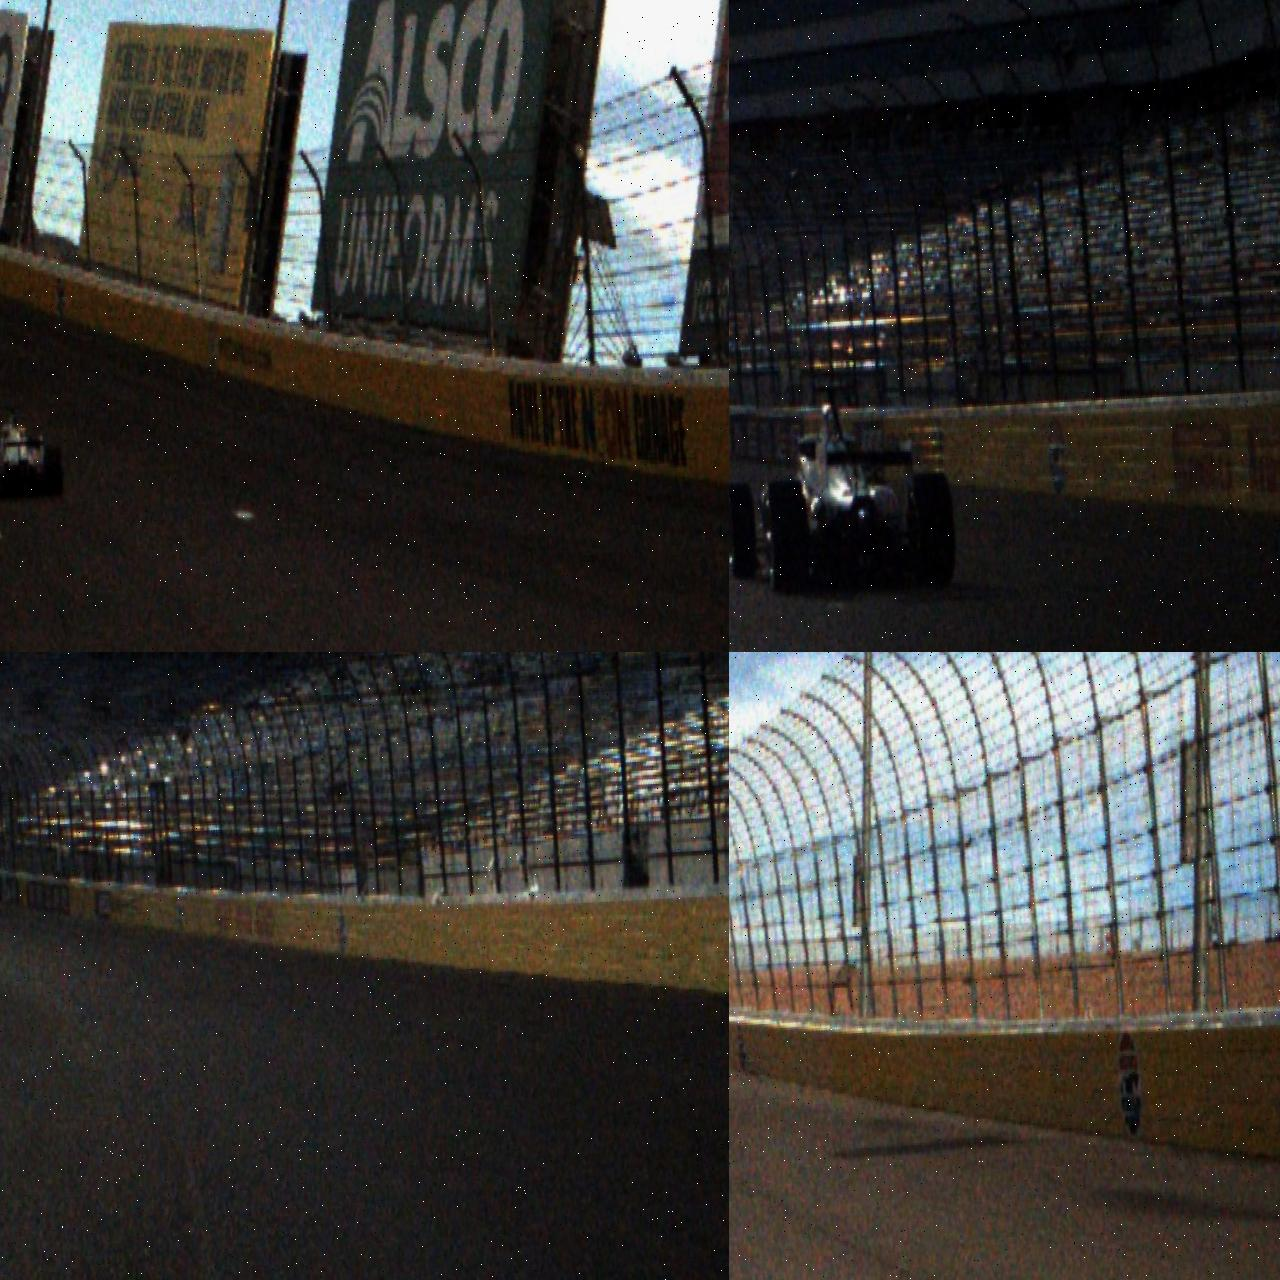AV: (729, 377, 959, 603), (0, 403, 63, 499)
Wheel: (904, 471, 959, 592), (762, 480, 812, 592), (729, 482, 759, 580), (44, 446, 63, 496)
